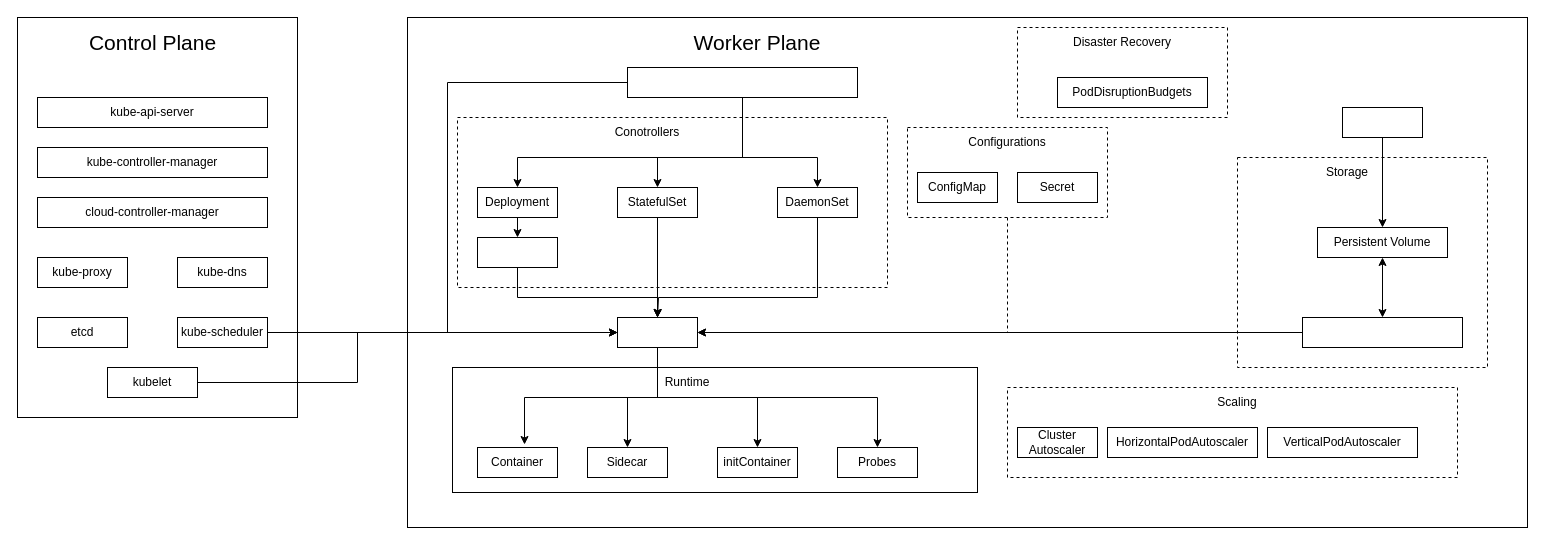
This 1545x545 diagram has some shape labels left out. The centre of each missing label's shape, as x and y in pixels:
"Namespace" belongs at (742,82).
"Nodes" belongs at (1382,122).
"Persistent Volume Claim" belongs at (1382,332).
"Pods" belongs at (657,332).
"ReplicaSet" belongs at (517,252).
